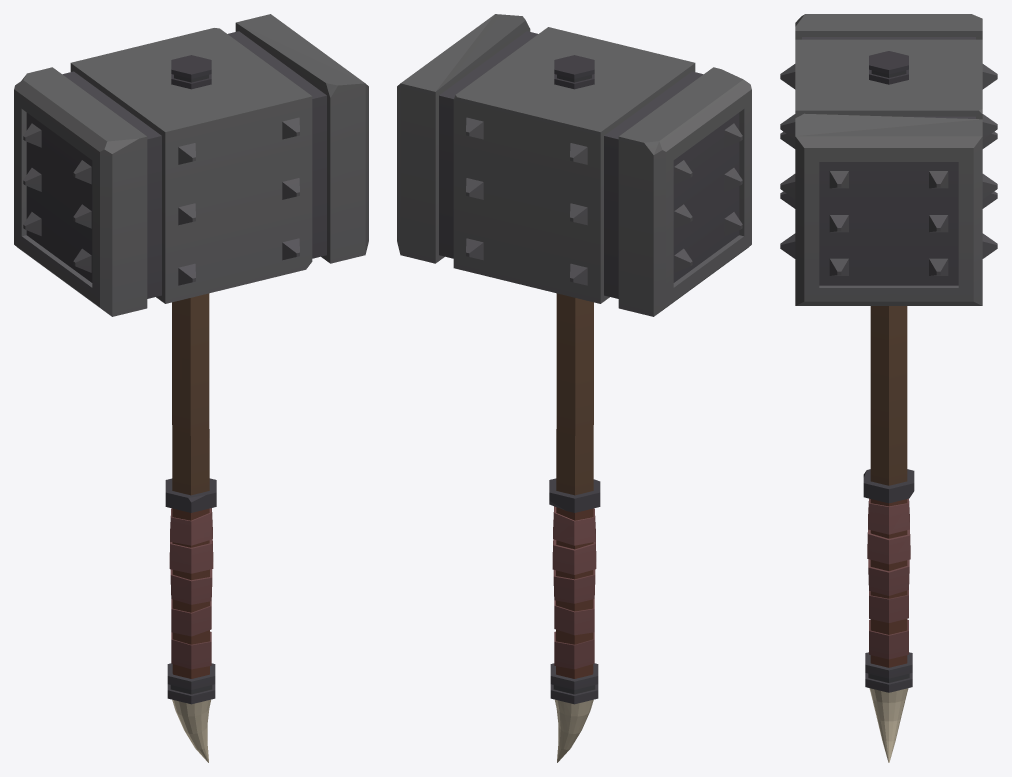
File: martelo.glb
3 views of the same model, side by side, from view 1: azimuth 30°, elevation 25°; view 2: azimuth 150°, elevation 25°; view 3: azimuth 270°, elevation 25° (orthographic).
Parts seen in each view (by area): view 1: martelo; view 2: martelo; view 3: martelo.
Boxes of the visible parts, x1,y1,x2,y2 form: martelo: [14, 14, 368, 762]; martelo: [397, 14, 751, 762]; martelo: [780, 14, 997, 762].
Size of the model in its own units: 0.2332 by 0.55 by 0.1558.
1 material, 1 textured.
